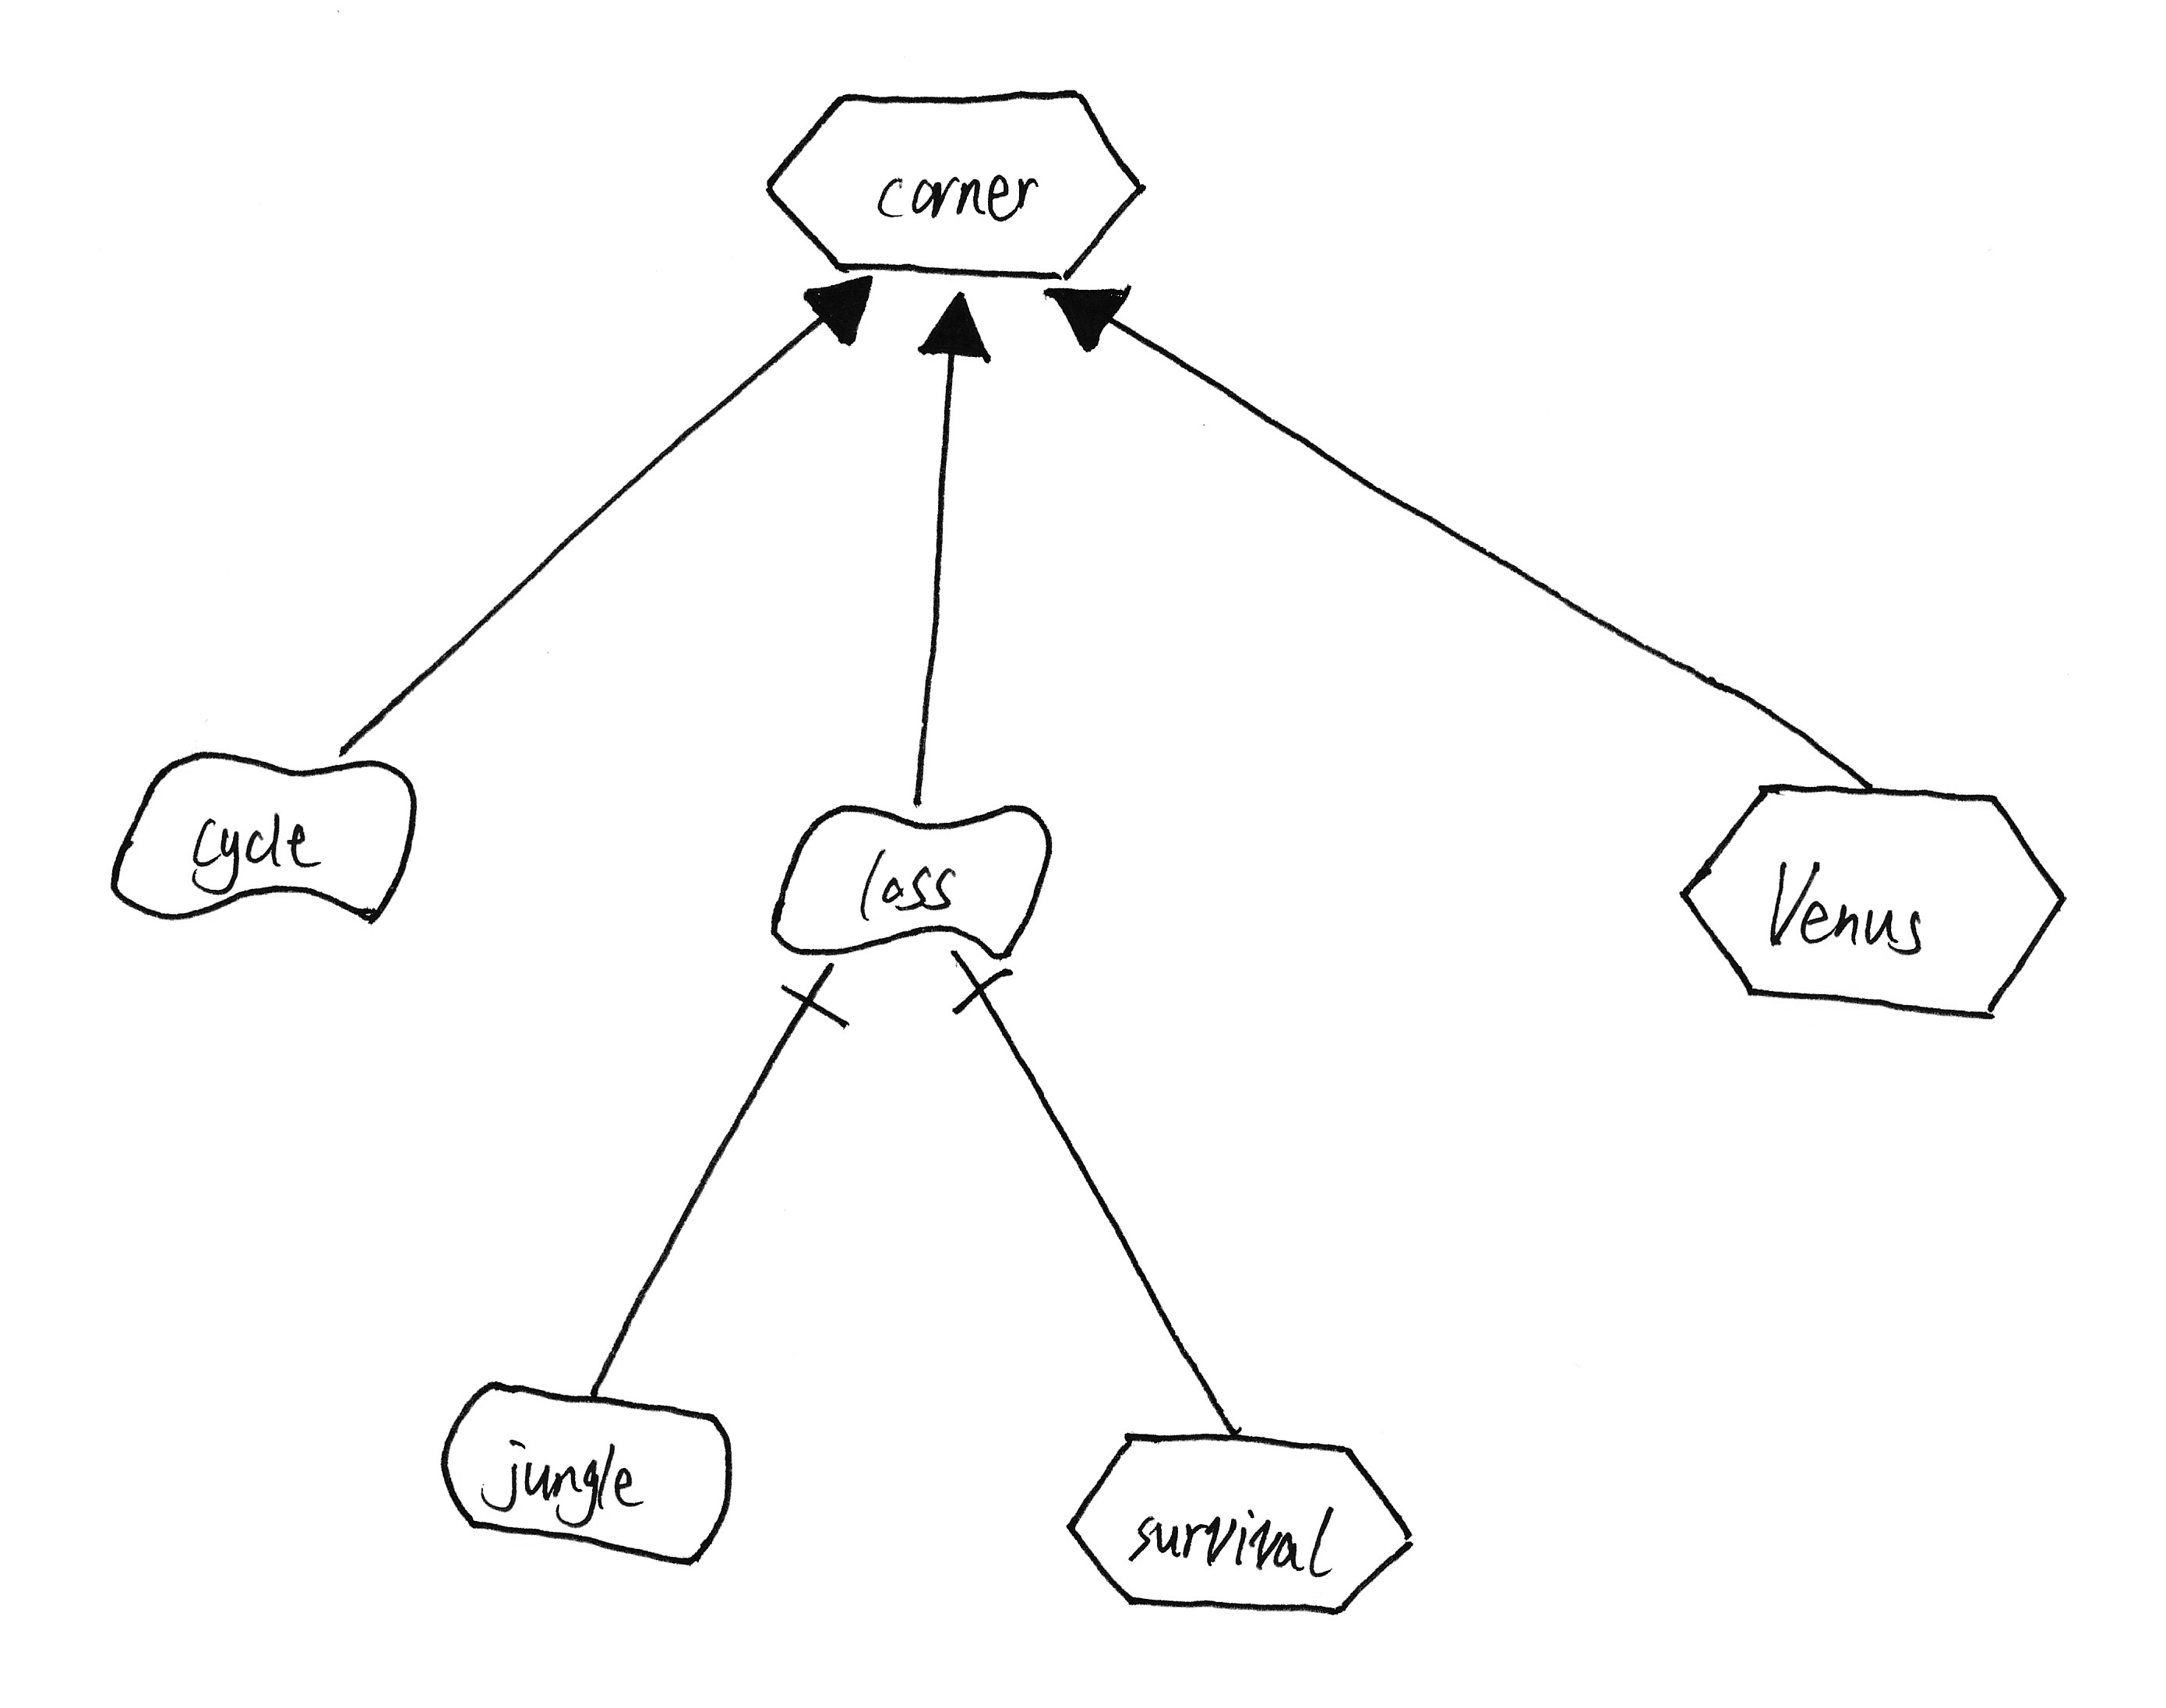and: (761, 960, 876, 1047), (942, 950, 1039, 1031)
goal: (429, 1363, 744, 1578)
or: (1020, 278, 1159, 369), (905, 278, 1002, 375), (793, 269, 881, 355)
quality: (91, 735, 431, 945), (752, 793, 1067, 973)
task: (1670, 765, 2075, 1038), (752, 70, 1159, 299), (1055, 1416, 1426, 1631)
